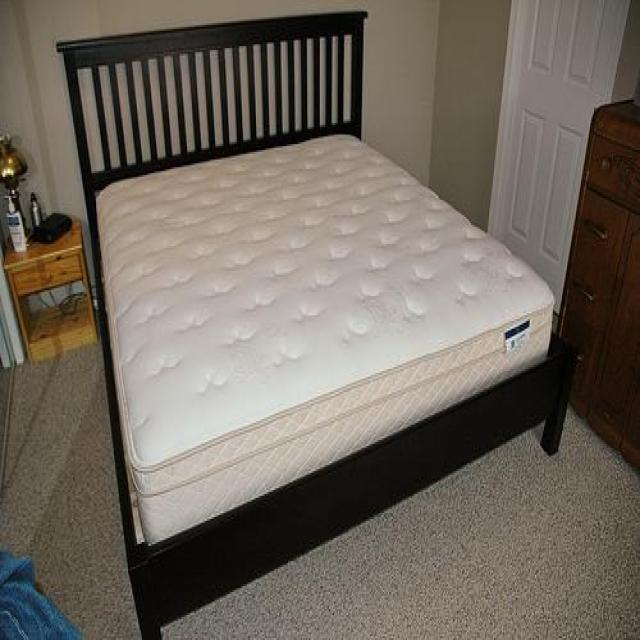bed: (55, 8, 577, 638)
table: (1, 214, 99, 362)
